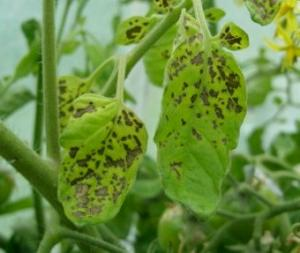Tomato leaf bacterial spot: (149, 22, 273, 226), (56, 94, 154, 236)
